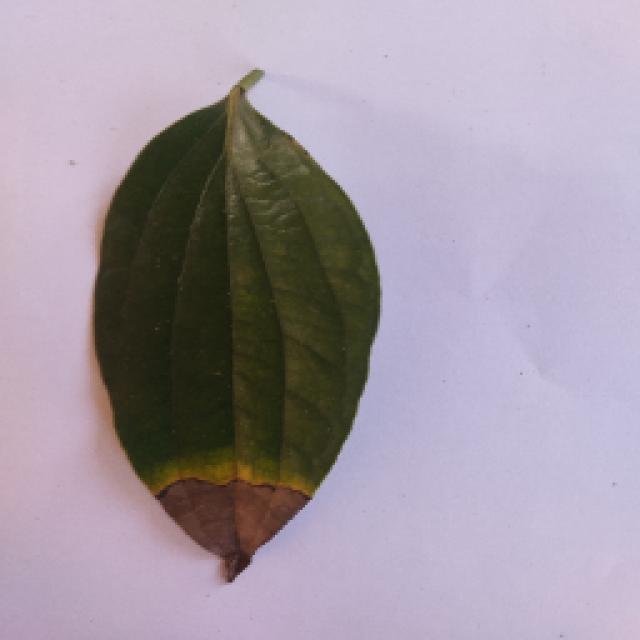footrot: (85, 73, 385, 585)
